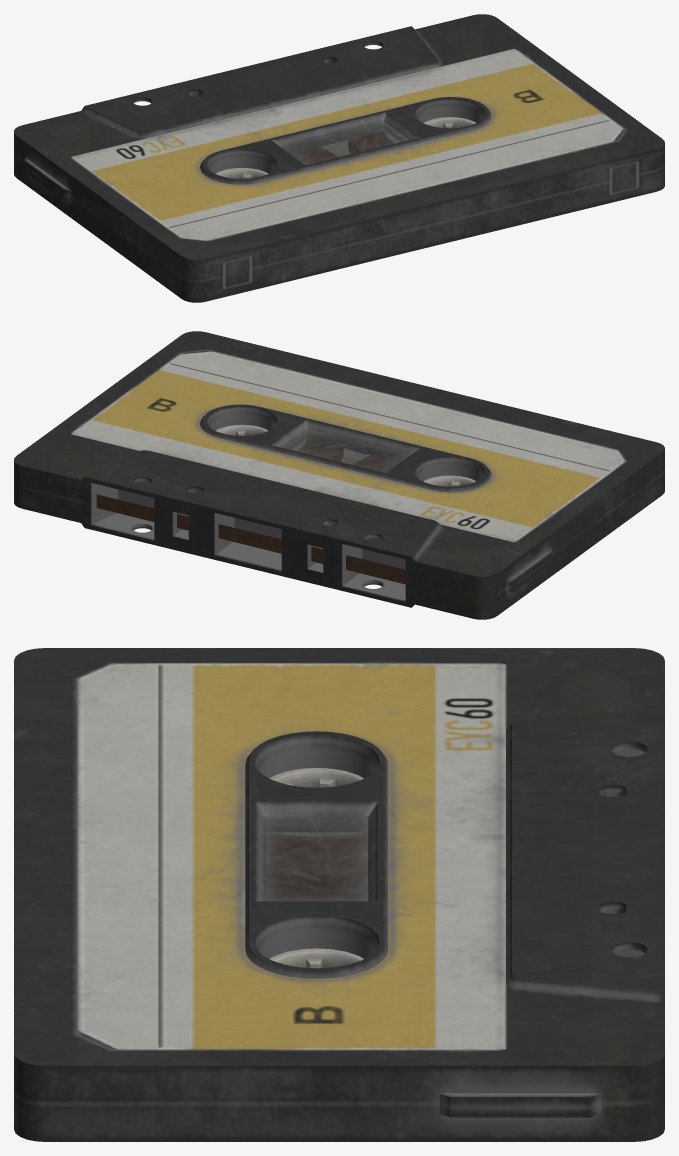
File: tape_3.glb
3 views of the same model, one above another, from view 1: azimuth 30°, elevation 25°; view 2: azimuth 150°, elevation 25°; view 3: azimuth 270°, elevation 25° (orthographic). The views are drawn at different scales.
Visible parts, largest first — view 1: CassetteTape_Main_low_02_1_CassetteTape_02a_0; view 2: CassetteTape_Main_low_02_1_CassetteTape_02a_0; view 3: CassetteTape_Main_low_02_1_CassetteTape_02a_0.
Part boxes in pixels (bbox=[...]): CassetteTape_Main_low_02_1_CassetteTape_02a_0: bbox=[14, 14, 664, 302]; CassetteTape_Main_low_02_1_CassetteTape_02a_0: bbox=[14, 331, 664, 619]; CassetteTape_Main_low_02_1_CassetteTape_02a_0: bbox=[14, 648, 664, 1141].
Size of the model in its own units: 0.1017 by 0.0102 by 0.0659.
1 material, 1 textured.
